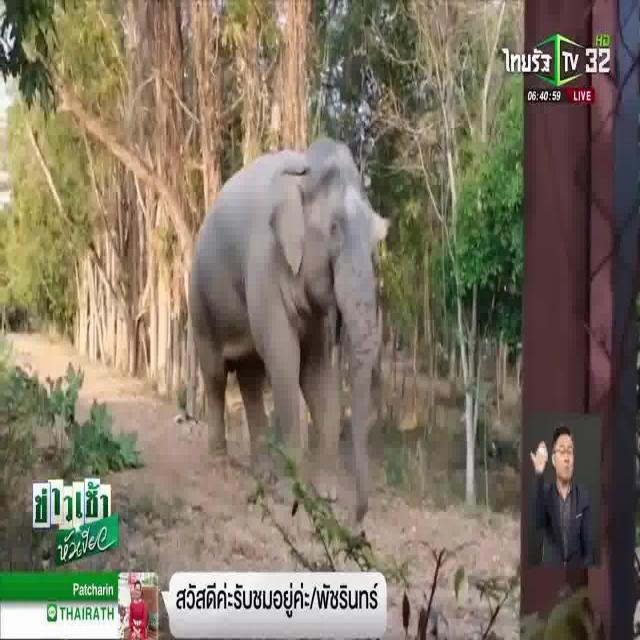Elephant: (189, 135, 385, 511)
